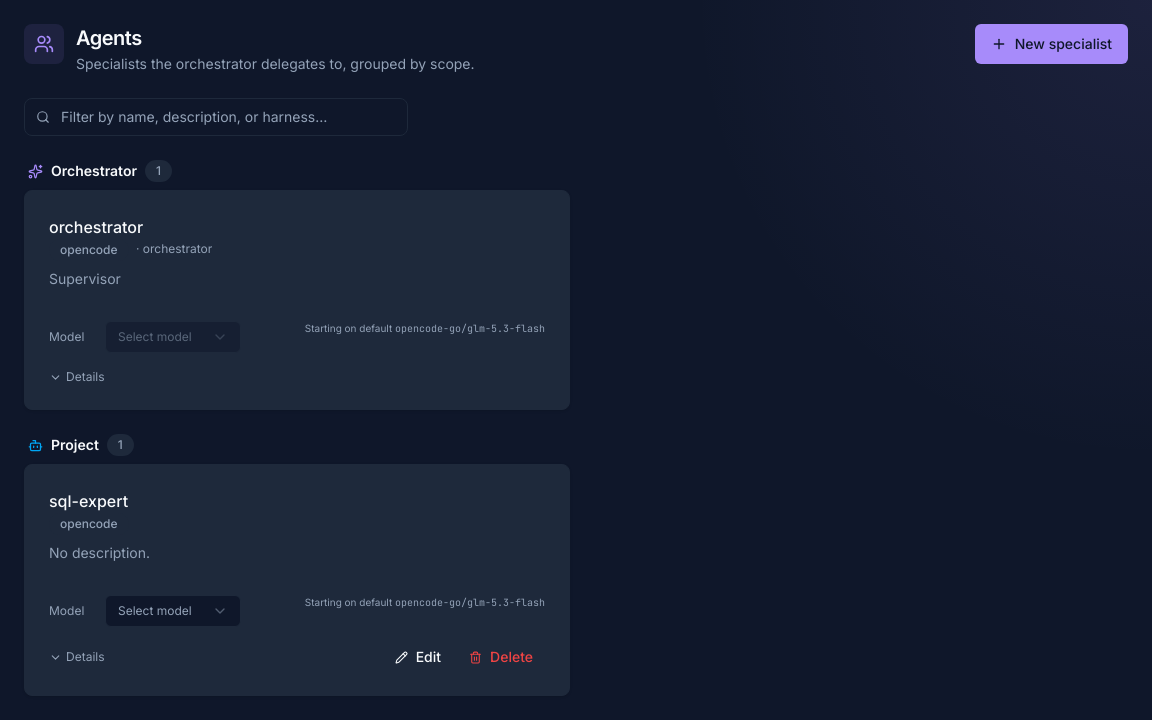
Test: AgentsPage search filter › narrows cards by name and restores on clear
Type "sql" into the search field with test id "agents-search".
click(216, 117); type("sql")  # box [24,98,408,136]
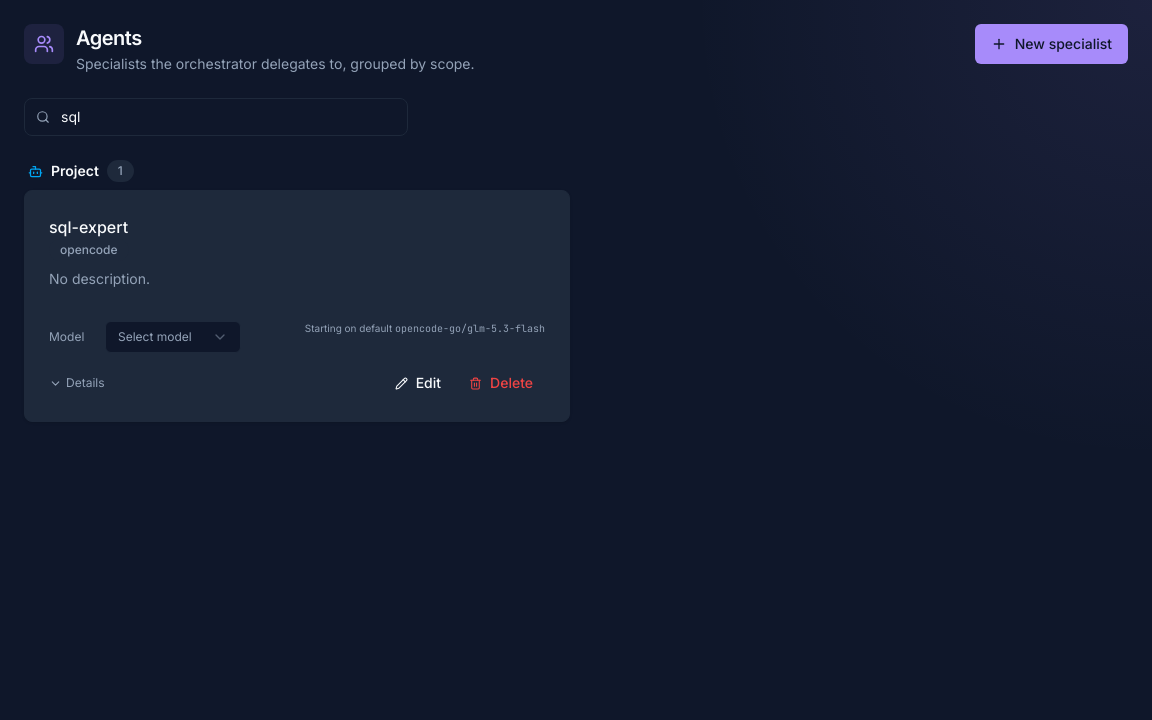
Expected: the button with test id "model-picker-project-sql-expert" is shown, [105,321,241,353]
Clear the search field with test id "agents-search" at (216, 117), box [24,98,408,136]
(page scrolled)
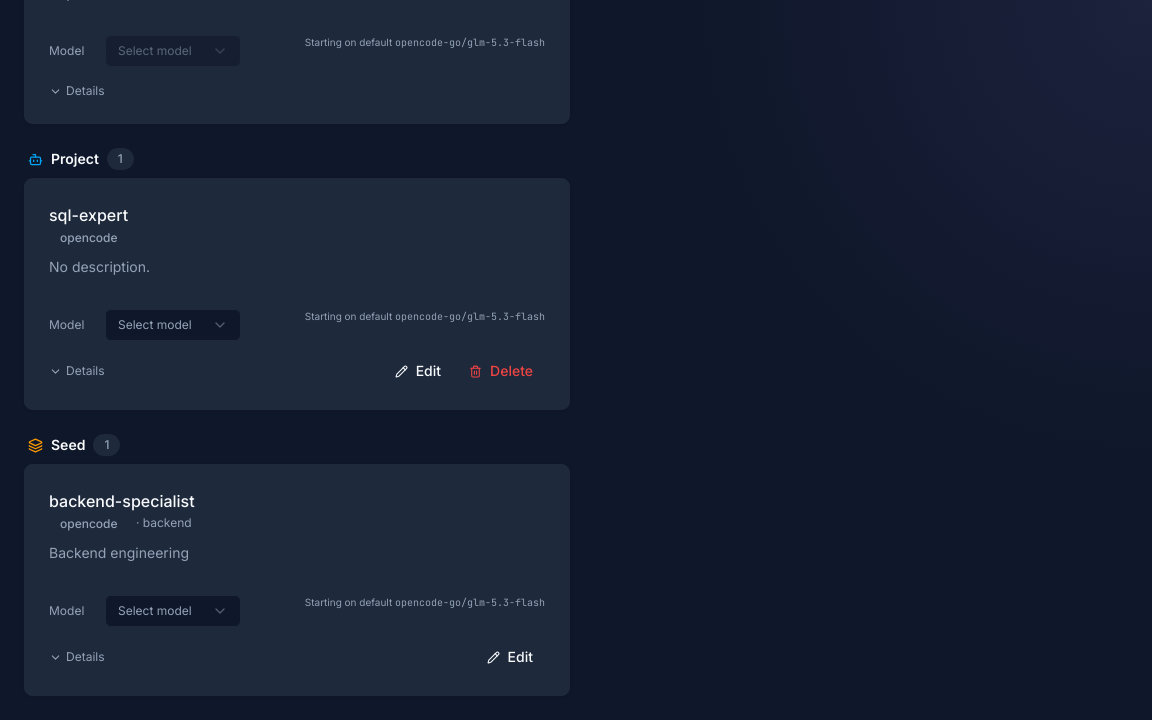
Result: the button with test id "model-picker-seed-backend-specialist" is shown at [105,595,241,627]
